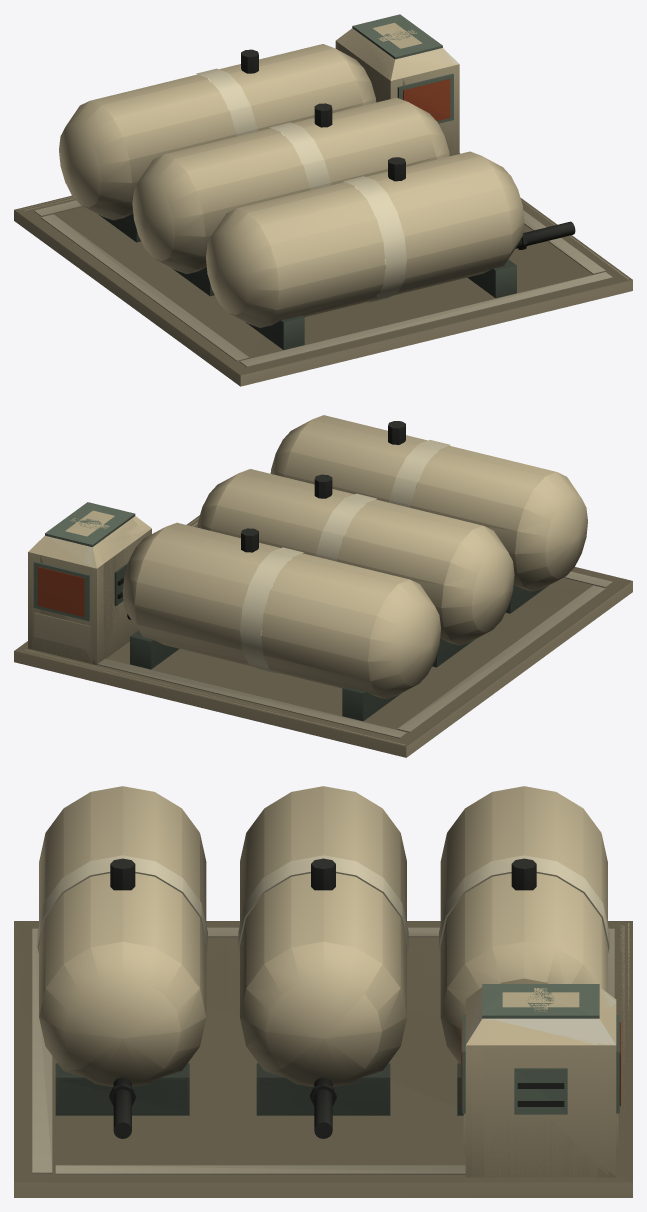
File: neutral_fuel_depot.glb
3 renders of one model, top to bottom at view 1: azimuth 30°, elevation 25°; view 2: azimuth 150°, elevation 25°; view 3: azimuth 270°, elevation 25°, orthographic. The views are drawn at different scales.
Visible parts, largest first — view 1: body (×3); view 2: body (×3); view 3: body (×3).
Part boxes in pixels (x1,y1,x2,y2): body (×3): (14, 14, 632, 386); body (×3): (14, 415, 632, 757); body (×3): (14, 786, 632, 1197).
Bounding box in the file's own units: 7.4 × 2.68 × 7.4.
